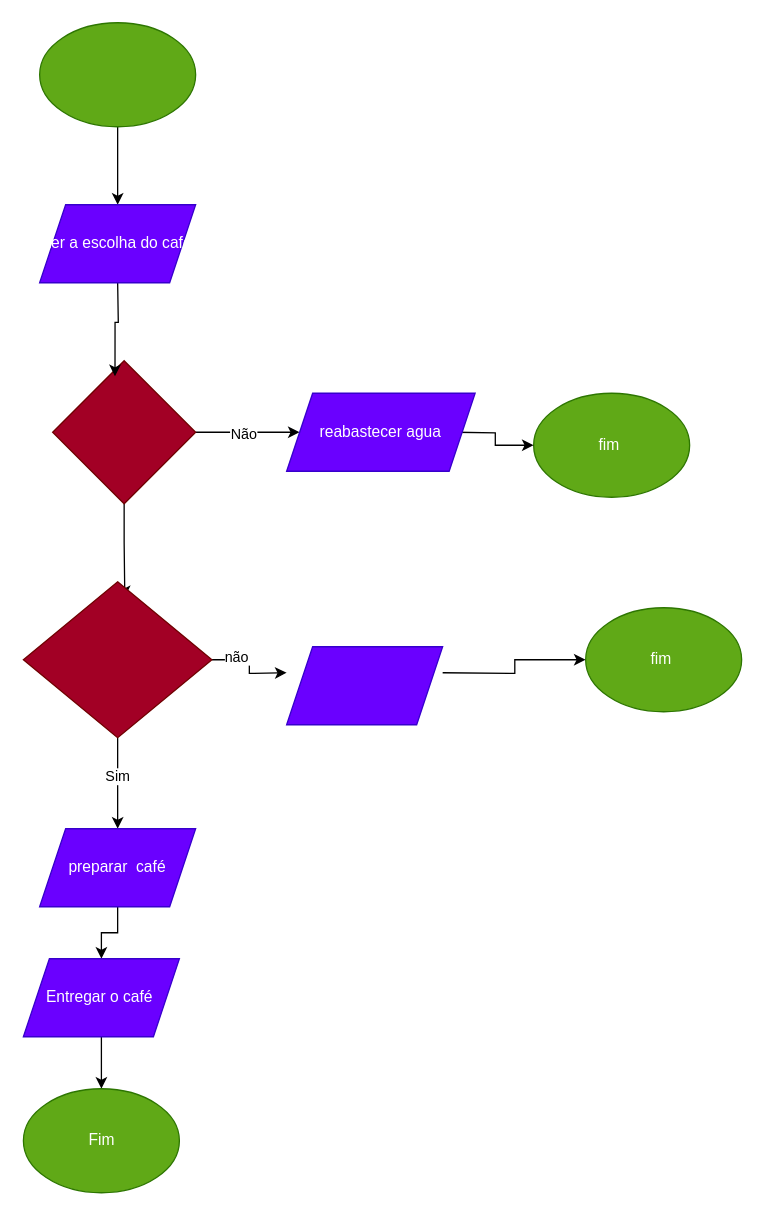
This 764x1216 diagram has some shape labels left out. Each missing label, with the centre of its shape:
inicio: the point at 117,74
Mostrar saldo insuficiente: the point at 364,685
O dinheiro insérido e suficiente ?: the point at 117,659
Tem agua suficiente ?: the point at 123,431
